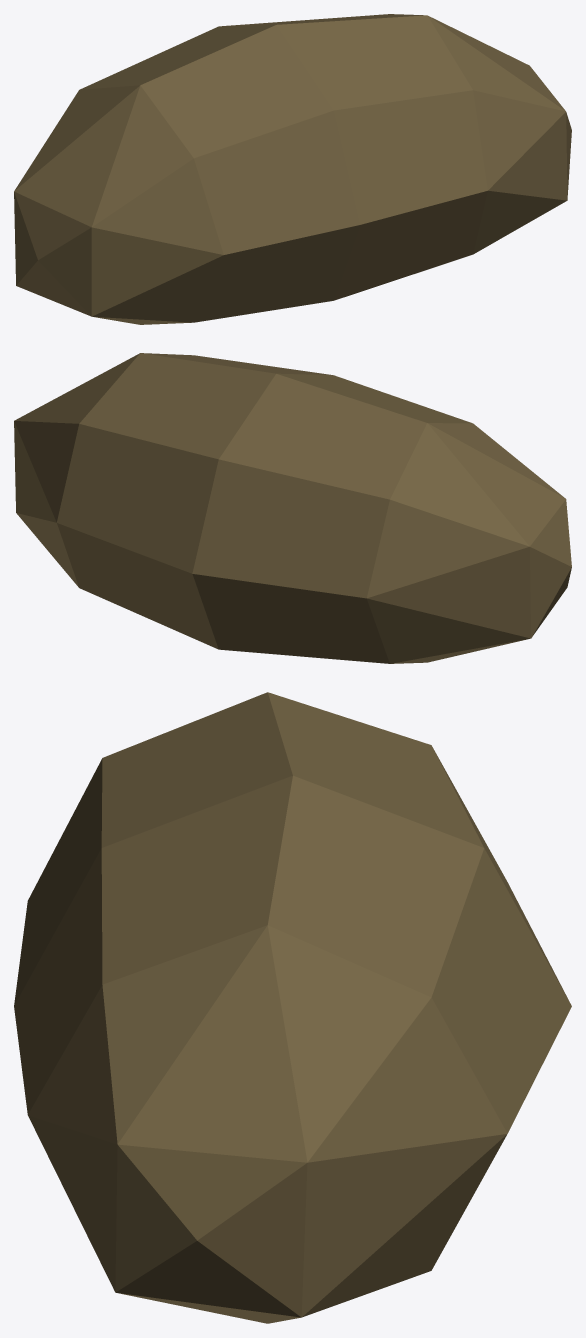
The model's file is Potato.glb.
The picture shows the model from 3 angles, top to bottom: view 1: azimuth 30°, elevation 25°; view 2: azimuth 150°, elevation 25°; view 3: azimuth 270°, elevation 25°; orthographic projection. The views are drawn at different scales.
Visible parts, largest first — view 1: Potato.001; view 2: Potato.001; view 3: Potato.001.
Boxes of the visible parts, box(x1,y1,x2,y2) form: Potato.001: box(14, 14, 571, 324); Potato.001: box(14, 353, 571, 663); Potato.001: box(14, 692, 571, 1323).
Size of the model in its own units: 0.1313 by 0.0652 by 0.0714.
Materials: 1 (1 with a texture image).
